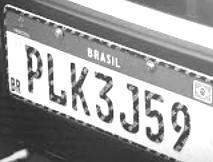placa_mercosul: (5, 5, 212, 159)
